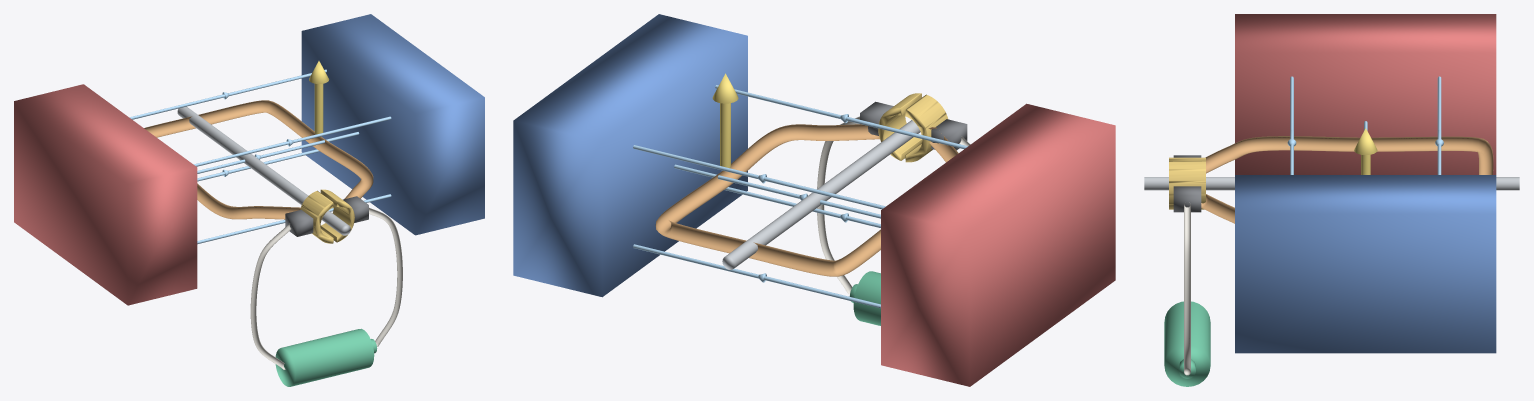
File: electric_motor.glb
The picture shows the model from 3 angles, left to right: view 1: azimuth 30°, elevation 25°; view 2: azimuth 150°, elevation 25°; view 3: azimuth 270°, elevation 25°; orthographic projection. The views are drawn at different scales.
Parts seen in each view (by area): view 1: north_pole, south_pole, coil, battery, field, axle, wires, commutator, brushes, force; view 2: north_pole, south_pole, coil, field, axle, commutator, battery, brushes, force, wires; view 3: south_pole, north_pole, coil, battery, commutator, wires, axle, field, brushes, force.
Part boxes in pixels (x1=…): north_pole: x1=14, y1=84, x2=197, y2=305; south_pole: x1=301, y1=14, x2=484, y2=235; coil: x1=144, y1=100, x2=373, y2=219; battery: x1=275, y1=328, x2=377, y2=386; field: x1=129, y1=69, x2=391, y2=244; axle: x1=177, y1=106, x2=350, y2=235; wires: x1=250, y1=207, x2=402, y2=369; commutator: x1=300, y1=189, x2=354, y2=243; brushes: x1=285, y1=196, x2=368, y2=236; force: x1=309, y1=61, x2=329, y2=134; north_pole: x1=881, y1=103, x2=1115, y2=386; south_pole: x1=513, y1=14, x2=747, y2=297; coil: x1=655, y1=124, x2=958, y2=276; field: x1=633, y1=85, x2=967, y2=308; axle: x1=722, y1=120, x2=920, y2=269; commutator: x1=878, y1=93, x2=947, y2=162; battery: x1=849, y1=271, x2=880, y2=325; brushes: x1=860, y1=101, x2=967, y2=150; force: x1=712, y1=73, x2=738, y2=167; wires: x1=817, y1=116, x2=970, y2=294; south_pole: x1=1235, y1=175, x2=1496, y2=353; north_pole: x1=1235, y1=14, x2=1496, y2=174; coil: x1=1201, y1=136, x2=1493, y2=223; battery: x1=1164, y1=301, x2=1210, y2=386; commutator: x1=1169, y1=157, x2=1205, y2=209; wires: x1=1184, y1=202, x2=1190, y2=375; axle: x1=1144, y1=177, x2=1519, y2=190; field: x1=1287, y1=76, x2=1443, y2=174; brushes: x1=1173, y1=155, x2=1201, y2=212; force: x1=1354, y1=128, x2=1377, y2=174.
Bounding box in the file's own units: 0.154 × 0.0995 × 0.122.
